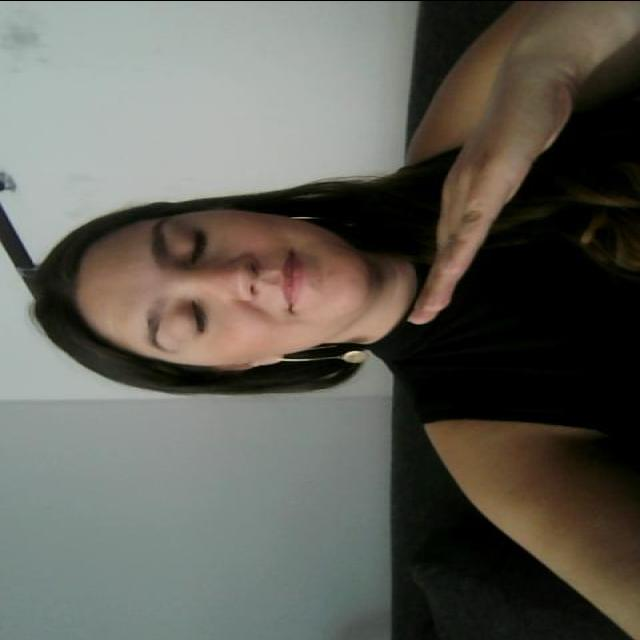Paper: (408, 63, 602, 334)
